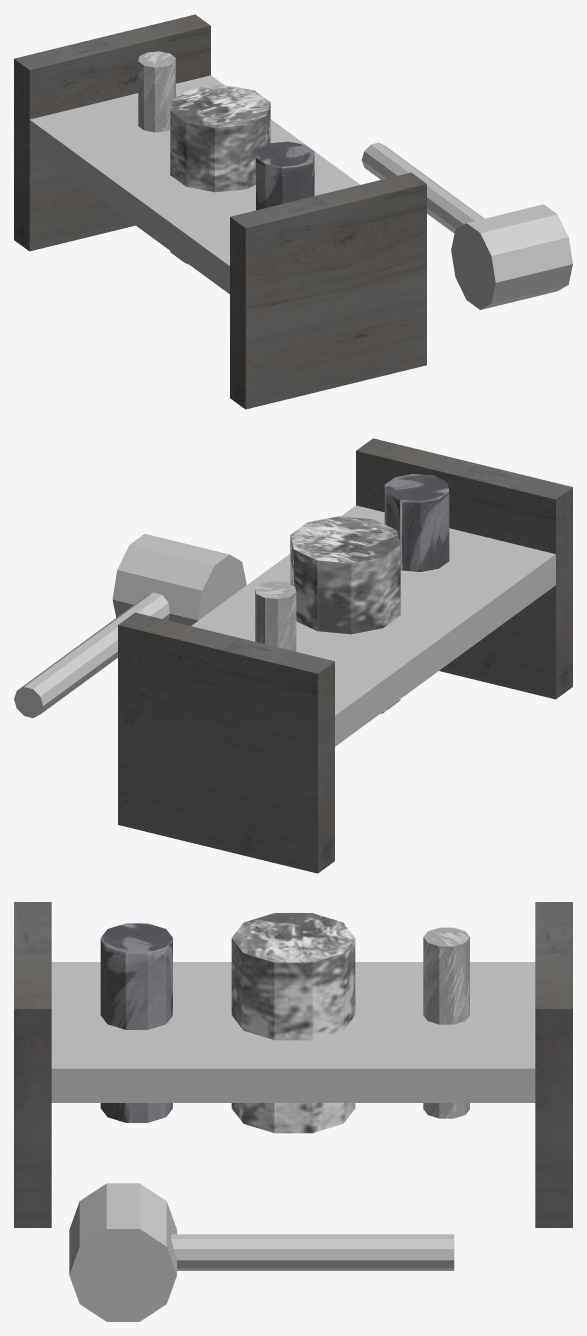
File: Brinquedo4.fbx
3 renders of one model, top to bottom at view 1: azimuth 30°, elevation 25°; view 2: azimuth 150°, elevation 25°; view 3: azimuth 270°, elevation 25°, orthographic. The views are drawn at different scales.
Visible parts, largest first — view 1: Cube.001, Cube, Cube.002, Cylinder.004, Cylinder.001, Cylinder, Cylinder.002; view 2: Cube.002, Cube, Cube.001, Cylinder.004, Cylinder.001, Cylinder, Cylinder.002; view 3: Cube, Cylinder.004, Cylinder.001, Cube.001, Cube.002, Cylinder, Cylinder.002.
Part boxes in pixels (left/top/right/bottom): Cube.001: left=230, top=172, right=426, bottom=409; Cube: left=29, top=75, right=360, bottom=293; Cube.002: left=14, top=14, right=210, bottom=251; Cylinder.004: left=361, top=142, right=572, bottom=309; Cylinder.001: left=170, top=85, right=270, bottom=264; Cylinder: left=256, top=141, right=314, bottom=210; Cylinder.002: left=138, top=51, right=175, bottom=132; Cube.002: left=118, top=612, right=334, bottom=873; Cube: left=191, top=505, right=555, bottom=746; Cube.001: left=356, top=438, right=572, bottom=699; Cylinder.004: left=14, top=534, right=246, bottom=717; Cylinder.001: left=290, top=516, right=400, bottom=713; Cylinder: left=384, top=474, right=449, bottom=571; Cylinder.002: left=255, top=581, right=296, bottom=651; Cube: left=51, top=962, right=535, bottom=1102; Cylinder.004: left=69, top=1183, right=454, bottom=1321; Cylinder.001: left=231, top=913, right=355, bottom=1133; Cube.001: left=14, top=902, right=51, bottom=1227; Cube.002: left=535, top=902, right=572, bottom=1227; Cylinder: left=100, top=923, right=172, bottom=1122; Cylinder.002: left=423, top=927, right=469, bottom=1118.
Bounding box in the file's own units: 284 × 153 × 325.
